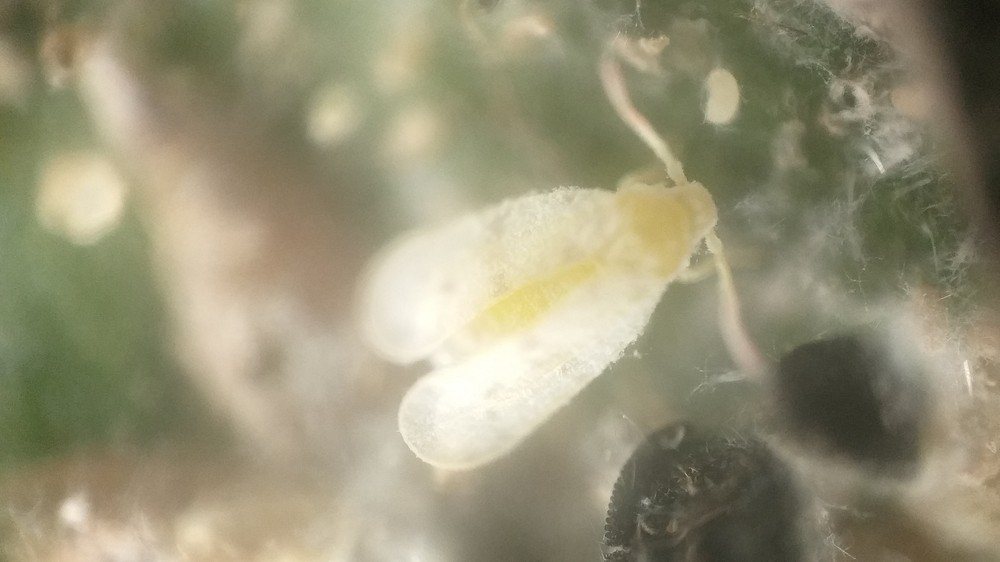Mosca Blanca: (337, 54, 789, 496)
